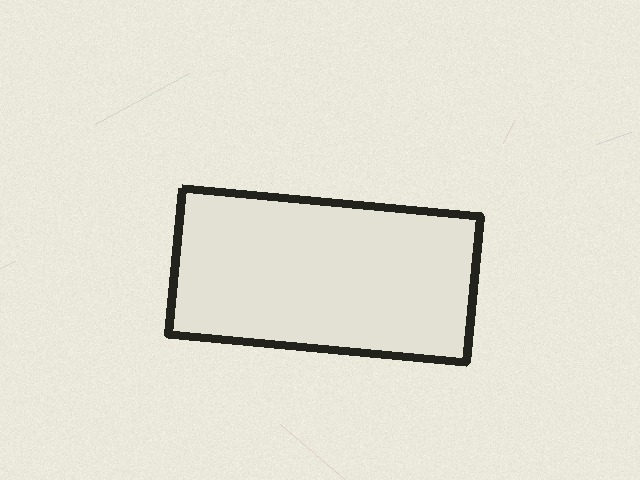parking_area: (168, 188, 480, 362)
